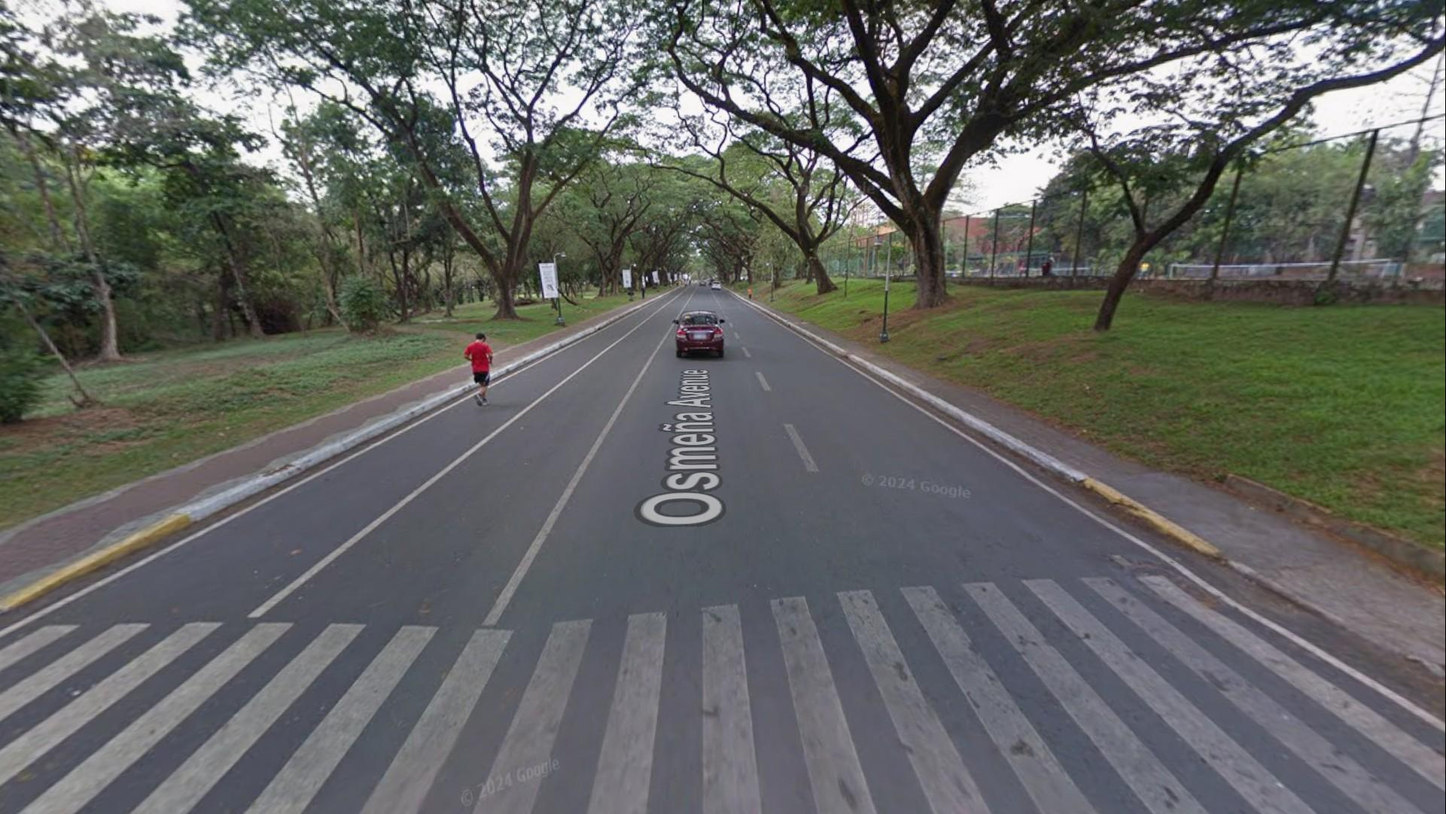pedestrian: (463, 332, 495, 409), (748, 286, 753, 301)
